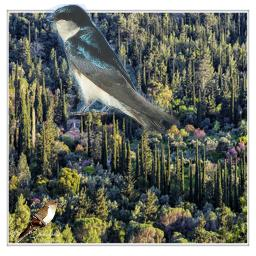Cuckoo: (17, 199, 63, 243)
Swallow: (46, 4, 180, 134)
